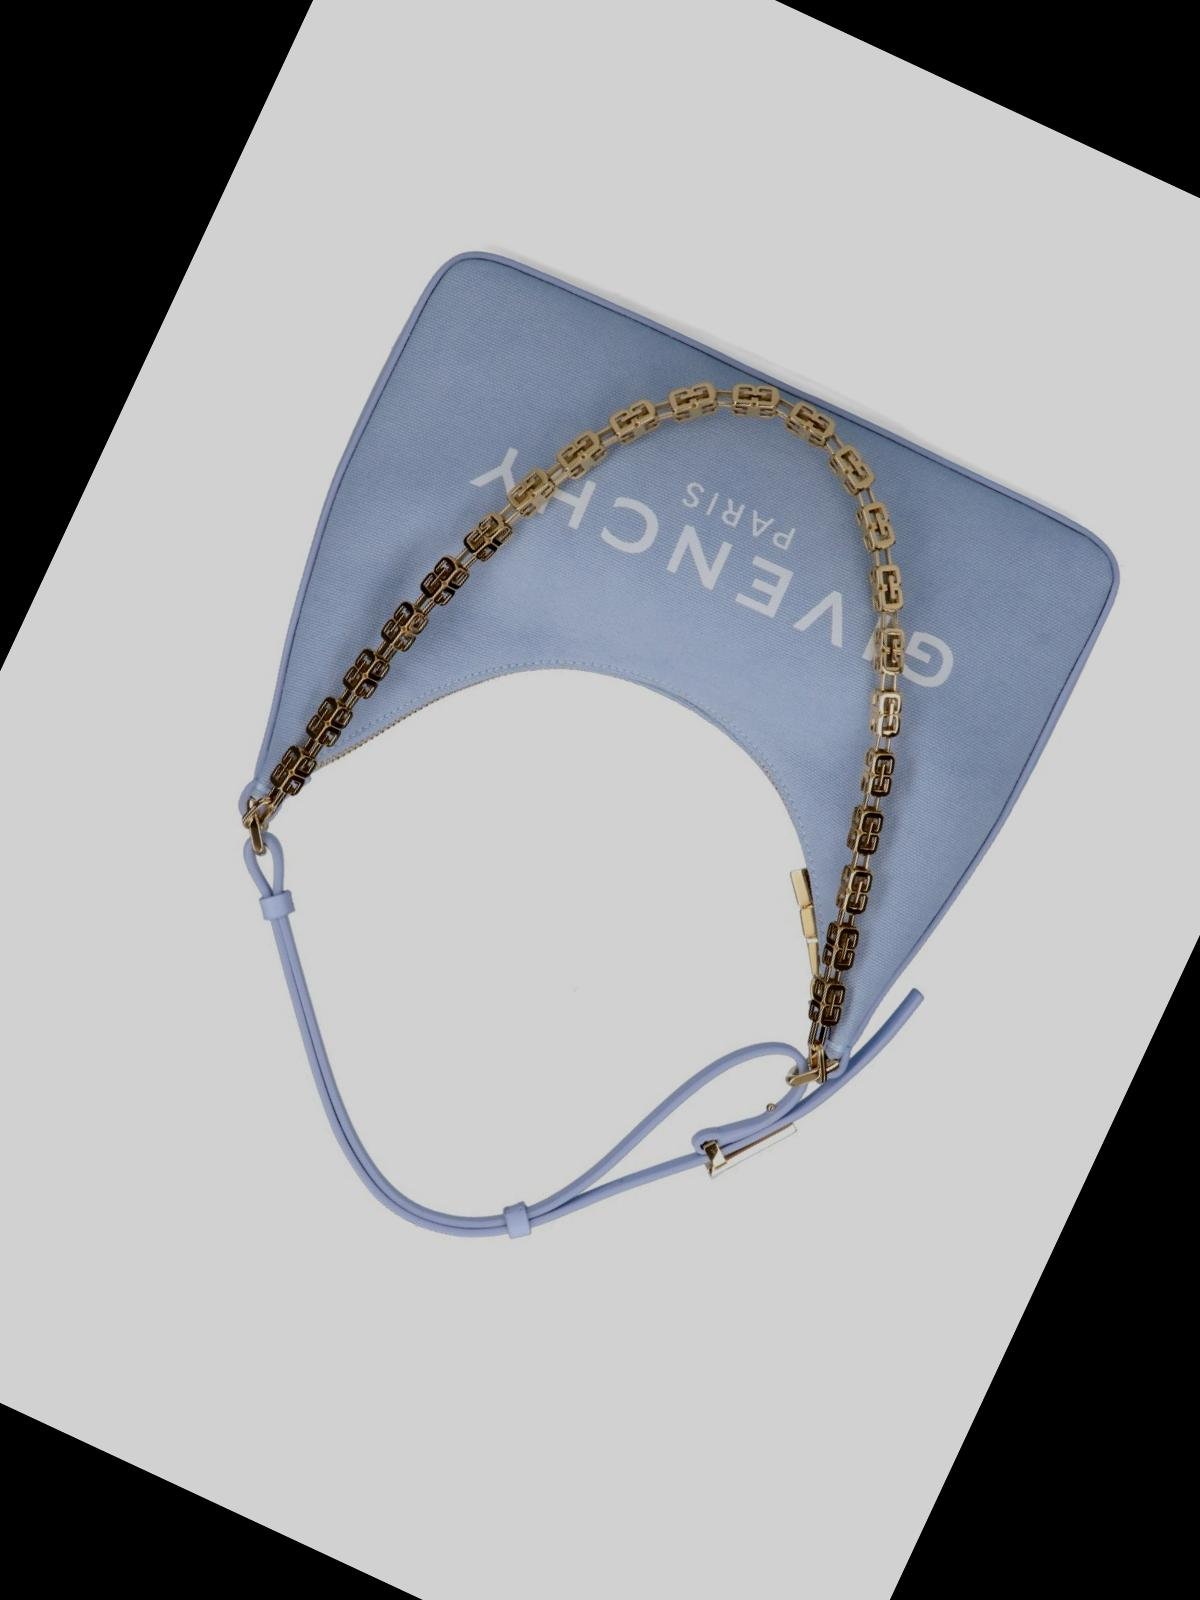GIVENCHY: (431, 386, 991, 734)
